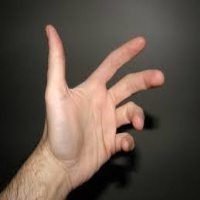ring: (114, 101, 160, 132)
